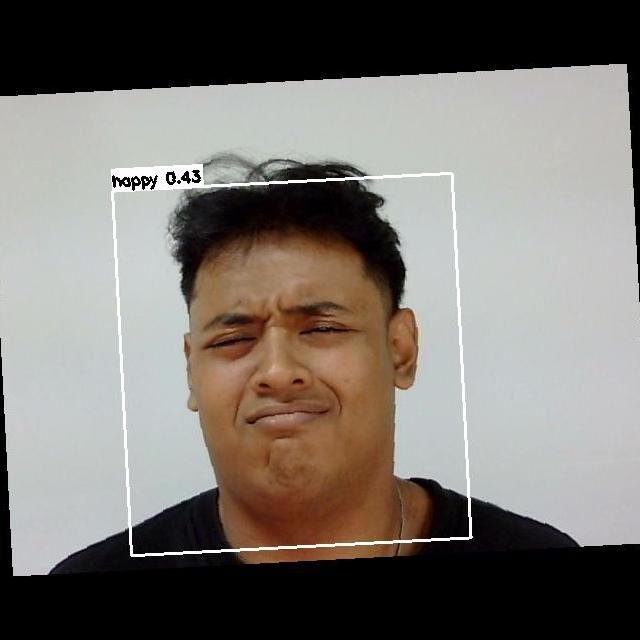Disgust: (179, 281, 408, 481)
